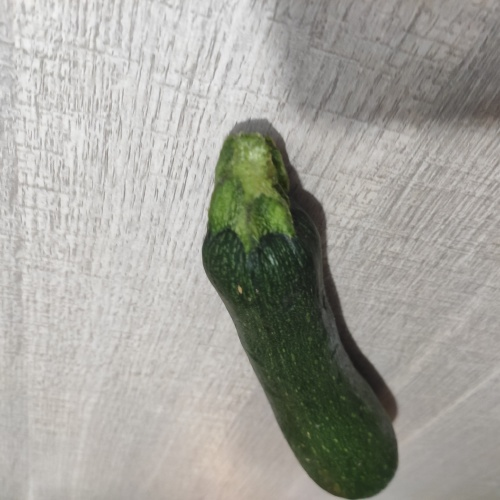zucchine: (192, 138, 400, 494)
